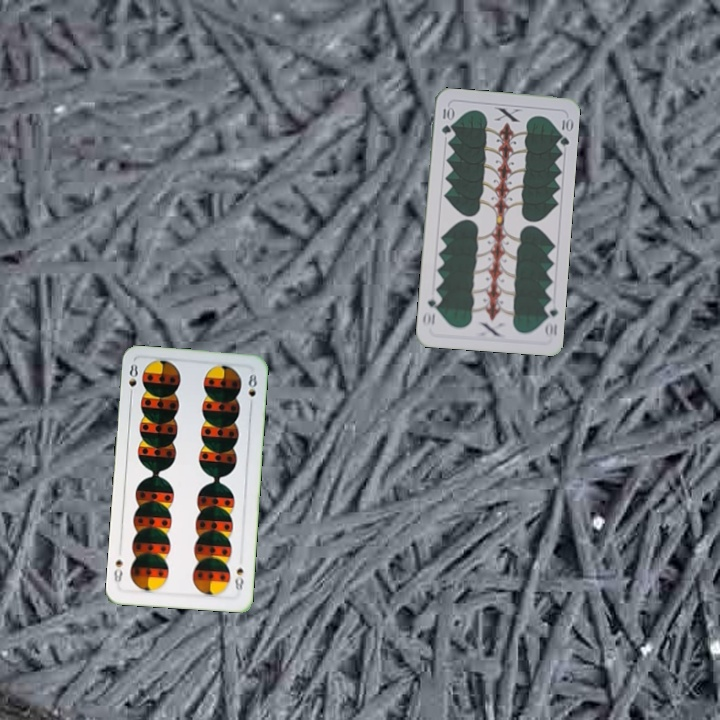G10: (540, 299, 560, 340), (438, 103, 455, 137)
S8: (124, 360, 140, 400), (231, 564, 246, 593)
